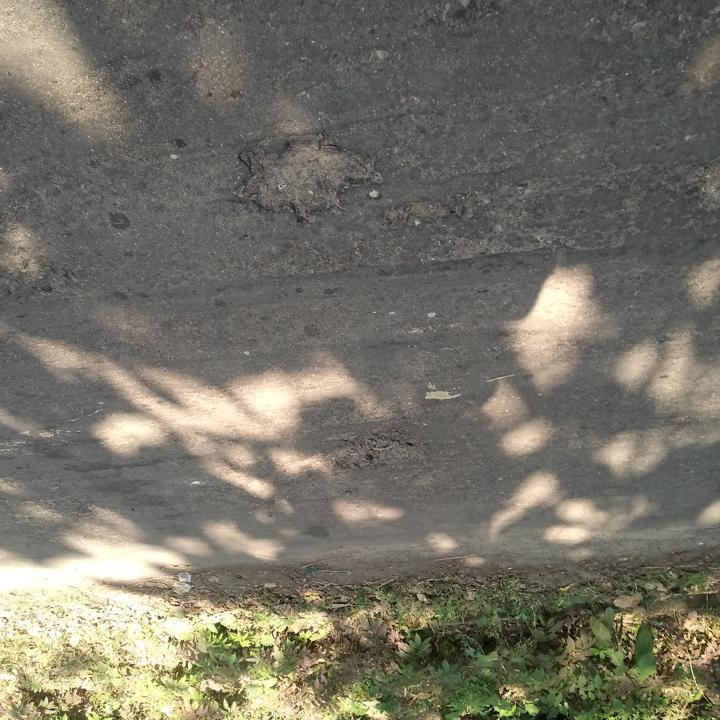pothole: (229, 130, 377, 225), (329, 428, 429, 477)
